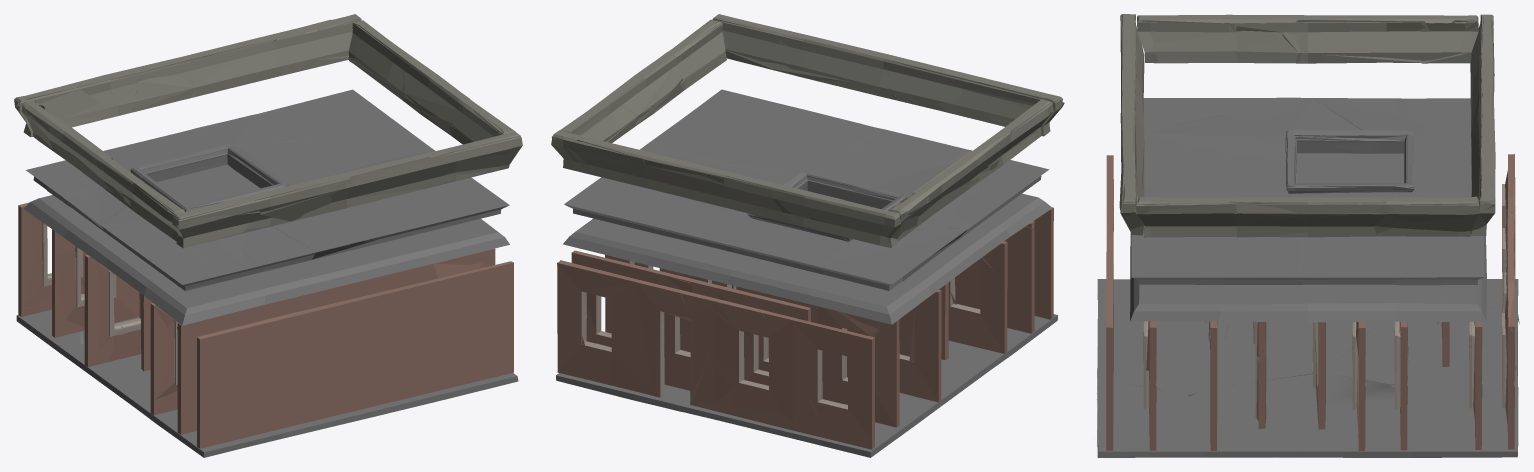
3 renders of one model, left to right at view 1: azimuth 30°, elevation 25°; view 2: azimuth 150°, elevation 25°; view 3: azimuth 270°, elevation 25°, orthographic. The views are drawn at different scales.
Parts seen in each view (by area): view 1: Panel10, Foundation, Roof, Fence3, Fence4, Roof_cell, Roof_cell.003, Floor, Panel10_cell.006, Fence1, Roof_cell.001, Fence2 (+34 smaller); view 2: Panel4, Roof, Foundation, Fence4, Fence3, Roof_cell, Floor, Roof_cell.001, Fence1, Panel5, Panel4_cell.001, Panel2 (+30 smaller); view 3: Floor, Roof, Foundation, Fence2, Roof_cell, Floor_cell.007, Fence1, Roof_cell.003, Roof_cell.005, Floor_cell.002, Roof_cell.001, Fence4 (+36 smaller).
Boxes of the visible parts, bbox=[...] form: Panel10: bbox=[197, 261, 513, 448]; Foundation: bbox=[23, 164, 509, 325]; Roof: bbox=[41, 114, 501, 291]; Fence3: bbox=[14, 14, 361, 137]; Fence4: bbox=[172, 131, 522, 247]; Roof_cell: bbox=[233, 140, 474, 259]; Roof_cell.003: bbox=[258, 89, 435, 153]; Floor: bbox=[16, 315, 518, 457]; Panel10_cell.006: bbox=[207, 301, 364, 435]; Fence1: bbox=[348, 20, 512, 142]; Roof_cell.001: bbox=[103, 114, 261, 182]; Fence2: bbox=[21, 99, 184, 241]; Panel4: bbox=[557, 261, 874, 449]; Roof: bbox=[565, 102, 1049, 290]; Foundation: bbox=[563, 193, 1052, 324]; Fence4: bbox=[712, 14, 1062, 135]; Fence3: bbox=[551, 130, 900, 248]; Roof_cell: bbox=[657, 115, 914, 212]; Floor: bbox=[556, 314, 1057, 457]; Roof_cell.001: bbox=[664, 212, 861, 274]; Fence1: bbox=[561, 20, 726, 141]; Panel5: bbox=[571, 250, 810, 385]; Panel4_cell.001: bbox=[560, 260, 707, 401]; Panel2: bbox=[948, 241, 1007, 353]; Floor: bbox=[1097, 279, 1518, 457]; Roof: bbox=[1131, 97, 1483, 285]; Foundation: bbox=[1130, 153, 1486, 322]; Fence2: bbox=[1137, 15, 1478, 63]; Roof_cell: bbox=[1144, 158, 1400, 284]; Floor_cell.007: bbox=[1188, 373, 1417, 457]; Fence1: bbox=[1135, 196, 1479, 237]; Roof_cell.003: bbox=[1280, 234, 1484, 284]; Roof_cell.005: bbox=[1147, 98, 1374, 162]; Floor_cell.002: bbox=[1097, 304, 1229, 395]; Roof_cell.001: bbox=[1373, 127, 1471, 197]; Fence4: bbox=[1119, 14, 1144, 235].
Size of the model in its own units: 1327 by 864 by 1256.
